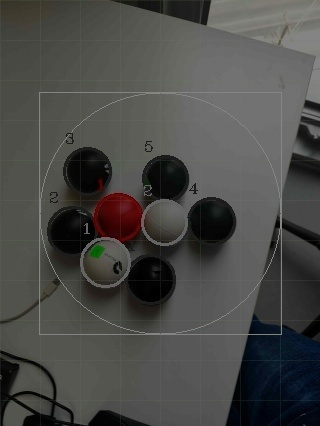Pelota blanca: (79, 236, 131, 288), (140, 198, 187, 246)
Pelota negra: (225, 329, 320, 425), (124, 254, 177, 307), (60, 145, 113, 195), (47, 204, 97, 254), (185, 196, 238, 243), (140, 153, 190, 200), (87, 409, 150, 425)
Pelota roja: (92, 190, 142, 243)
